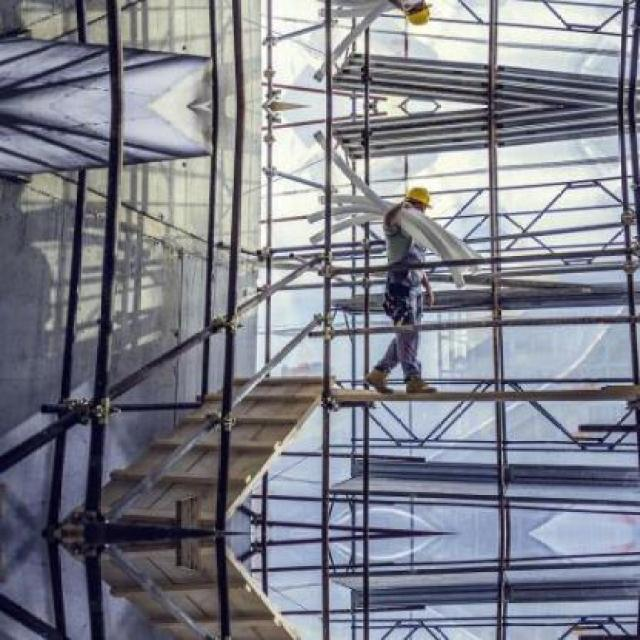helmet: (402, 187, 429, 219), (402, 0, 431, 26)
